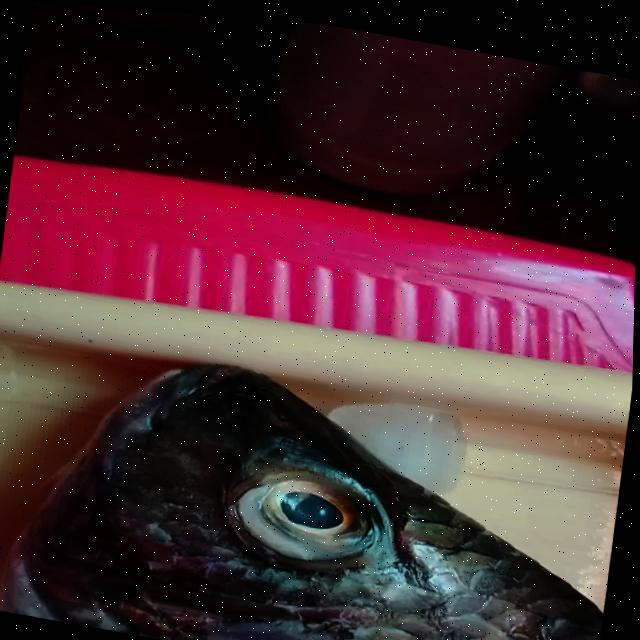Fresh: (216, 451, 409, 574)
